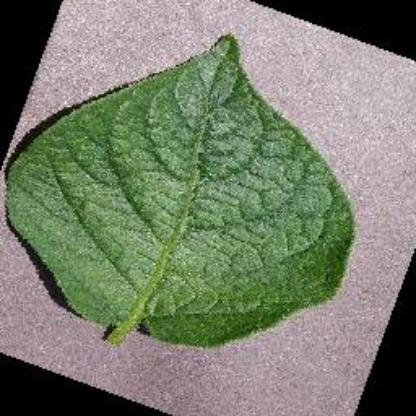Healthy-plant: (6, 31, 352, 348)
